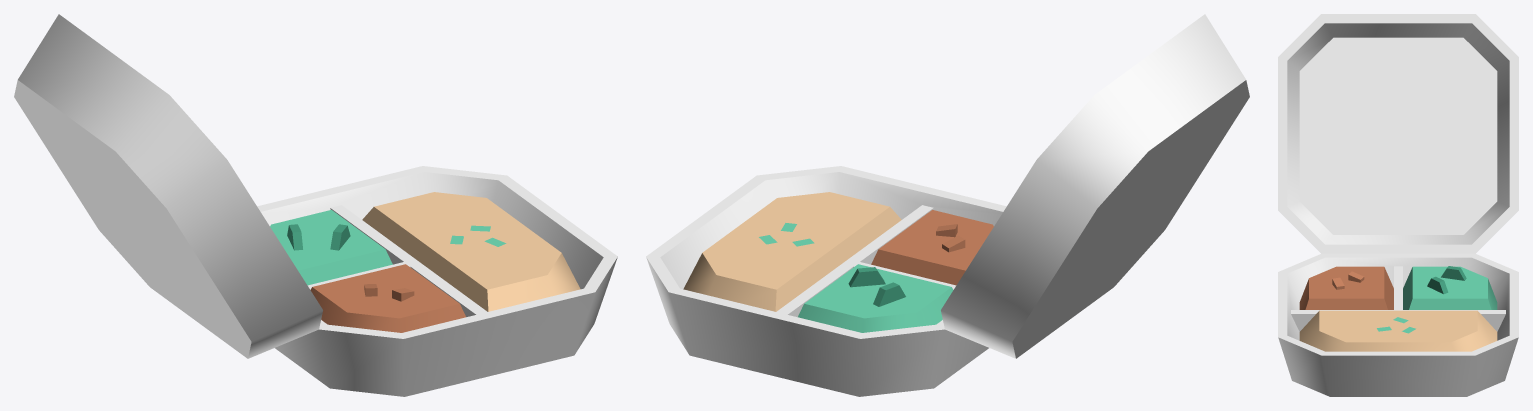
The model's file is Styrofoam Dinner.glb.
3 views of the same model, side by side, from view 1: azimuth 30°, elevation 25°; view 2: azimuth 150°, elevation 25°; view 3: azimuth 270°, elevation 25° (orthographic). The views are drawn at different scales.
Parts seen in each view (by area): view 1: Styrofoam Dinner; view 2: Styrofoam Dinner; view 3: Styrofoam Dinner.
Part boxes in pixels (<box>): Styrofoam Dinner: <box>14,14,617,396</box>; Styrofoam Dinner: <box>646,14,1249,396</box>; Styrofoam Dinner: <box>1278,14,1518,396</box>.
Size of the model in its own units: 0.7555 by 0.4932 by 0.4554.
